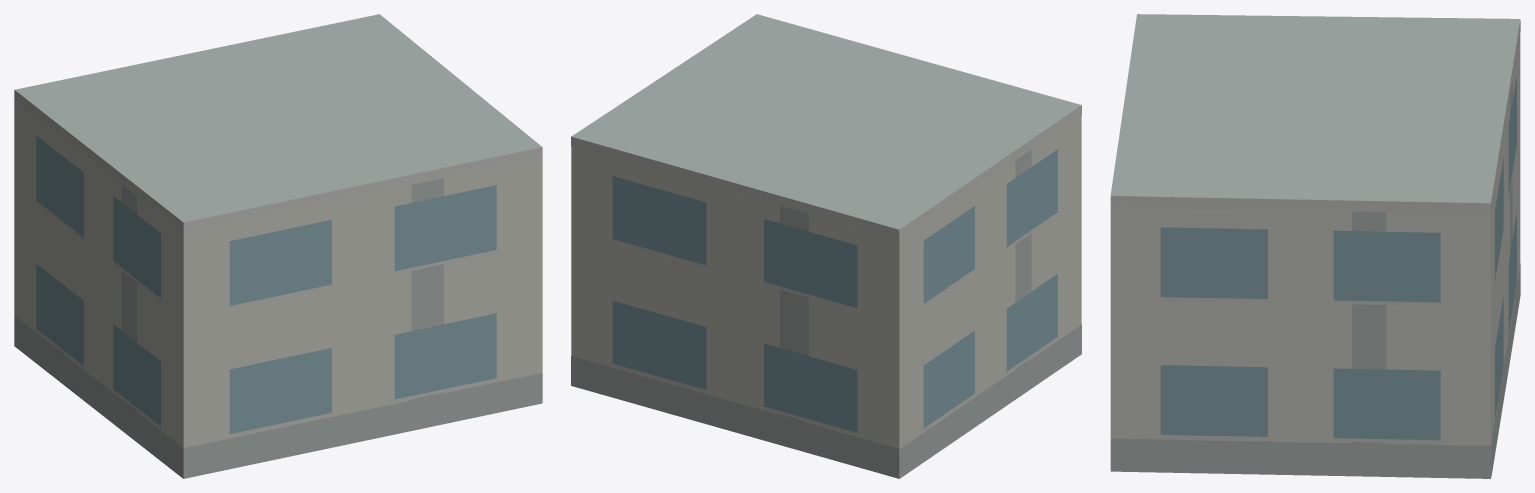
Rendered from survey-upis-32747828.glb.
The picture shows the model from 3 angles, left to right: view 1: azimuth 30°, elevation 25°; view 2: azimuth 150°, elevation 25°; view 3: azimuth 270°, elevation 25°; orthographic projection. The views are drawn at different scales.
Parts seen in each view (by area): view 1: survey-upis-32747828.tmp; view 2: survey-upis-32747828.tmp; view 3: survey-upis-32747828.tmp.
Boxes of the visible parts, x1,y1,x2,y2 form: survey-upis-32747828.tmp: (14,14,542,478); survey-upis-32747828.tmp: (571,14,1081,478); survey-upis-32747828.tmp: (1110,14,1520,478).
Size of the model in its own units: 8.99 by 6.1 by 8.24.
